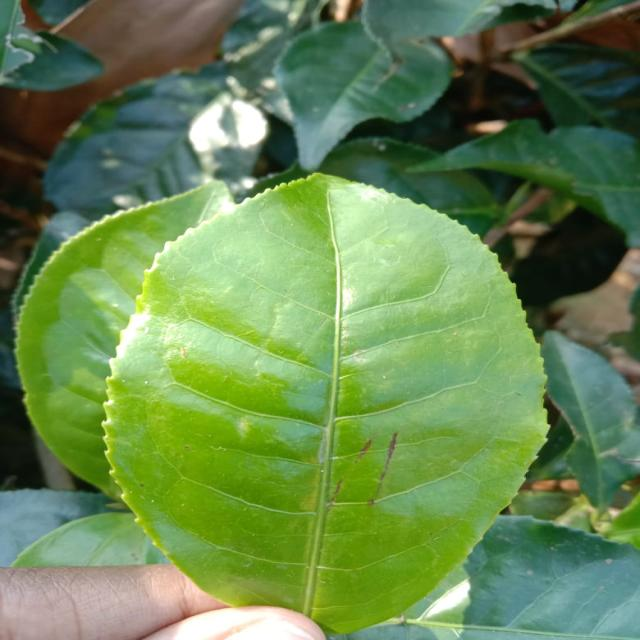Category B(2-4 days): (100, 166, 558, 629)
